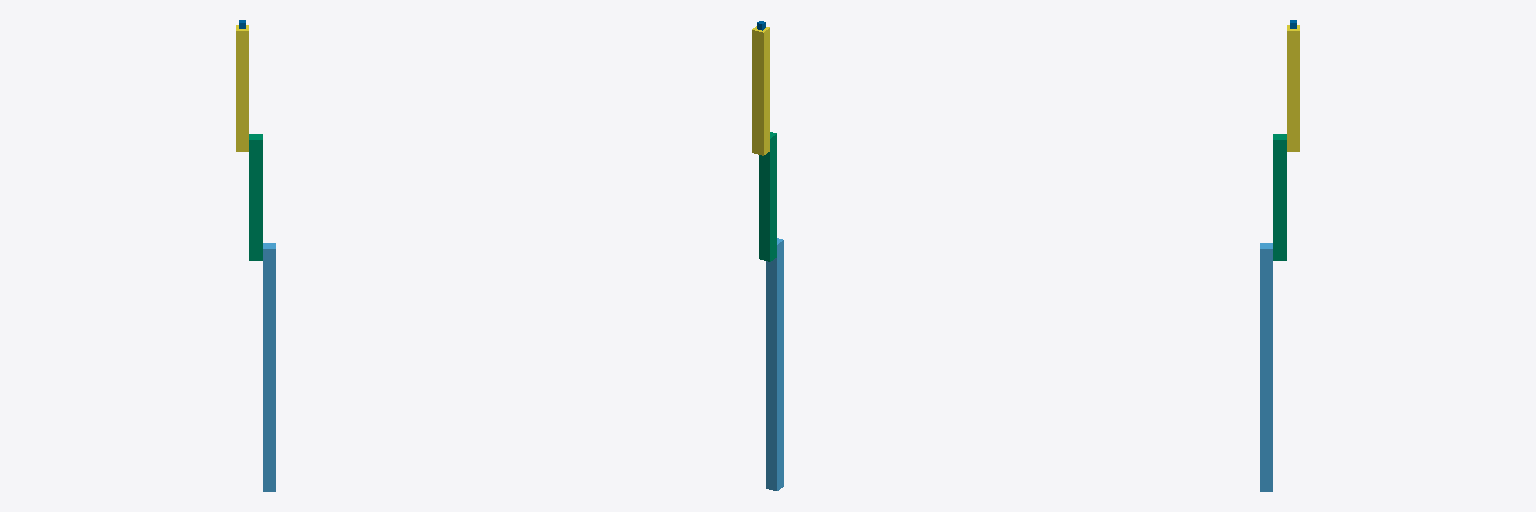
The robot description file, URDF, robot "2linkrobot":
<?xml version="1.0" ?>
<!-- =================================================================================== -->
<!-- |    This document was autogenerated by xacro from urdf/2link.xacro               | -->
<!-- |    EDITING THIS FILE BY HAND IS NOT RECOMMENDED                                 | -->
<!-- =================================================================================== -->
<!-- 2 link Manipulator -->
<robot name="2linkrobot">
  <!-- Space btw top of beam and the each joint -->
  <!-- Used for fixing robot to world -->
  <link name="world"/>
  <joint name="fixed" type="fixed">
    <parent link="world"/>
    <child link="link1"/>
  </joint>
  <!-- Base Link -->
  <link name="link1">
    <collision>
      <origin rpy="0 0 0" xyz="0 0 1.0"/>
      <geometry>
        <box size="0.1 0.1 2"/>
      </geometry>
    </collision>
    <visual>
      <origin rpy="0 0 0" xyz="0 0 1.0"/>
      <geometry>
        <box size="0.1 0.1 2"/>
      </geometry>
      <material name="orange"/>
    </visual>
    <inertial>
      <origin rpy="0 0 0" xyz="0 0 1.0"/>
      <mass value="1"/>
      <inertia ixx="0.3341666666666666" ixy="0.0" ixz="0.0" iyy="0.3341666666666666" iyz="0.0" izz="0.001666666666666667"/>
    </inertial>
  </link>
  <joint name="joint1" type="continuous">
    <parent link="link1"/>
    <child link="link2"/>
    <origin rpy="0 0 0" xyz="0 0.1 1.95"/>
    <axis xyz="0 1 0"/>
    <dynamics damping="0.7"/>
  </joint>
  <!-- Link 2 -->
  <link name="link2">
    <collision>
      <origin rpy="0 0 0" xyz="0 0 0.45"/>
      <geometry>
        <box size="0.1 0.1 1"/>
      </geometry>
    </collision>
    <visual>
      <origin rpy="0 0 0" xyz="0 0 0.45"/>
      <geometry>
        <box size="0.1 0.1 1"/>
      </geometry>
      <material name="blue"/>
    </visual>
    <inertial>
      <origin rpy="0 0 0" xyz="0 0 0.45"/>
      <mass value="1"/>
      <inertia ixx="0.08416666666666667" ixy="0.0" ixz="0.0" iyy="0.08416666666666667" iyz="0.0" izz="0.001666666666666667"/>
    </inertial>
  </link>
  <joint name="joint2" type="continuous">
    <parent link="link2"/>
    <child link="link3"/>
    <origin rpy="0 0 0" xyz="0 0.1 0.9"/>
    <axis xyz="0 1 0"/>
    <dynamics damping="0.7"/>
  </joint>
  <!-- Link 3 -->
  <link name="link3">
    <collision>
      <origin rpy="0 0 0" xyz="0 0 0.45"/>
      <geometry>
        <box size="0.1 0.1 1"/>
      </geometry>
    </collision>
    <visual>
      <origin rpy="0 0 0" xyz="0 0 0.45"/>
      <geometry>
        <box size="0.1 0.1 1"/>
      </geometry>
      <material name="black"/>
    </visual>
    <inertial>
      <origin rpy="0 0 0" xyz="0 0 0.45"/>
      <mass value="1"/>
      <inertia ixx="0.08416666666666667" ixy="0.0" ixz="0.0" iyy="0.08416666666666667" iyz="0.0" izz="0.001666666666666667"/>
    </inertial>
  </link>
  <joint name="ee_fixed_joint" type="fixed">
    <origin rpy="0 0 0" xyz="0 0 0.95"/>
    <parent link="link3"/>
    <child link="ee_link"/>
  </joint>
  <!-- end-effector link -->
  <link name="ee_link">
    <collision>
      <origin rpy="0 0 0" xyz="0 0 0.025"/>
      <geometry>
        <box size="0.05 0.05 0.05"/>
      </geometry>
    </collision>
    <visual>
      <origin rpy="0 0 0" xyz="0 0 0.025"/>
      <geometry>
        <box size="0.05 0.05 0.05"/>
      </geometry>
      <material name="red"/>
    </visual>
    <inertial>
      <mass value="1e-5"/>
      <origin rpy="0 0 0" xyz="0 0 0.025"/>
      <inertia ixx="1e-6" ixy="0" ixz="0" iyy="1e-6" iyz="0" izz="1e-6"/>
    </inertial>
  </link>
</robot>

--- What the picture shows (computed from the rendered views, not written in the file) ---
The picture shows the robot from 3 angles, left to right: view 1: azimuth 90°, elevation 25°; view 2: azimuth 150°, elevation 25°; view 3: azimuth 270°, elevation 25°; orthographic projection.
Model 2linkrobot with 5 links and 4 joints (2 continuous, 2 fixed), rooted at world, posed all joints at 0.
Visible links, largest first — view 1: link1, link2, link3; view 2: link1, link3, link2; view 3: link1, link2, link3.
Link boxes in pixels (box(x1,y1,x2,y2)): link1: box(263, 243, 275, 491); link2: box(249, 134, 262, 260); link3: box(236, 25, 248, 151); link1: box(766, 238, 783, 490); link3: box(752, 26, 769, 155); link2: box(759, 132, 776, 261); link1: box(1260, 243, 1272, 491); link2: box(1273, 134, 1286, 260); link3: box(1287, 25, 1299, 151).
Bounding box of the posed robot: 0.1 × 0.3 × 3.85 m (x, y, z).
Geometry: primitives only (box / cylinder / sphere), no mesh files.
